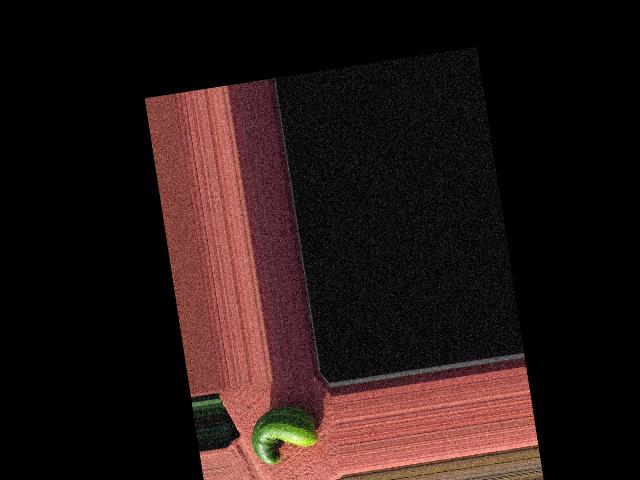cucumber: (247, 402, 321, 468)
